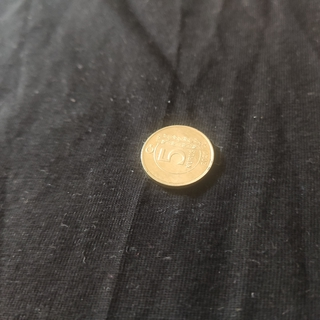5KURUS: (139, 122, 216, 188)
